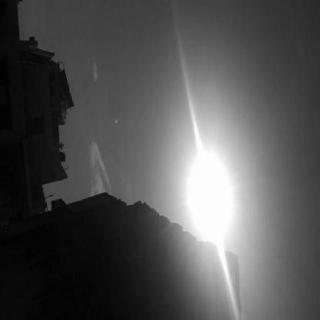other: (189, 113, 242, 255)
